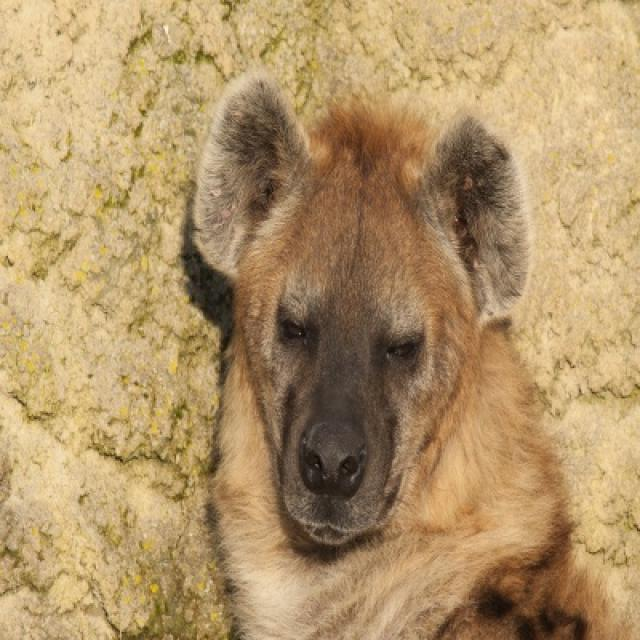hyena: (184, 67, 638, 638)
